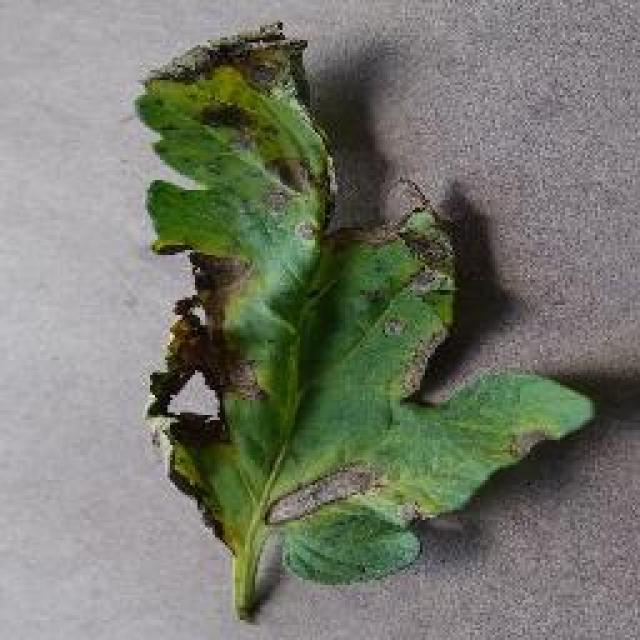Tomato Early blight leaf: (134, 22, 597, 586)
